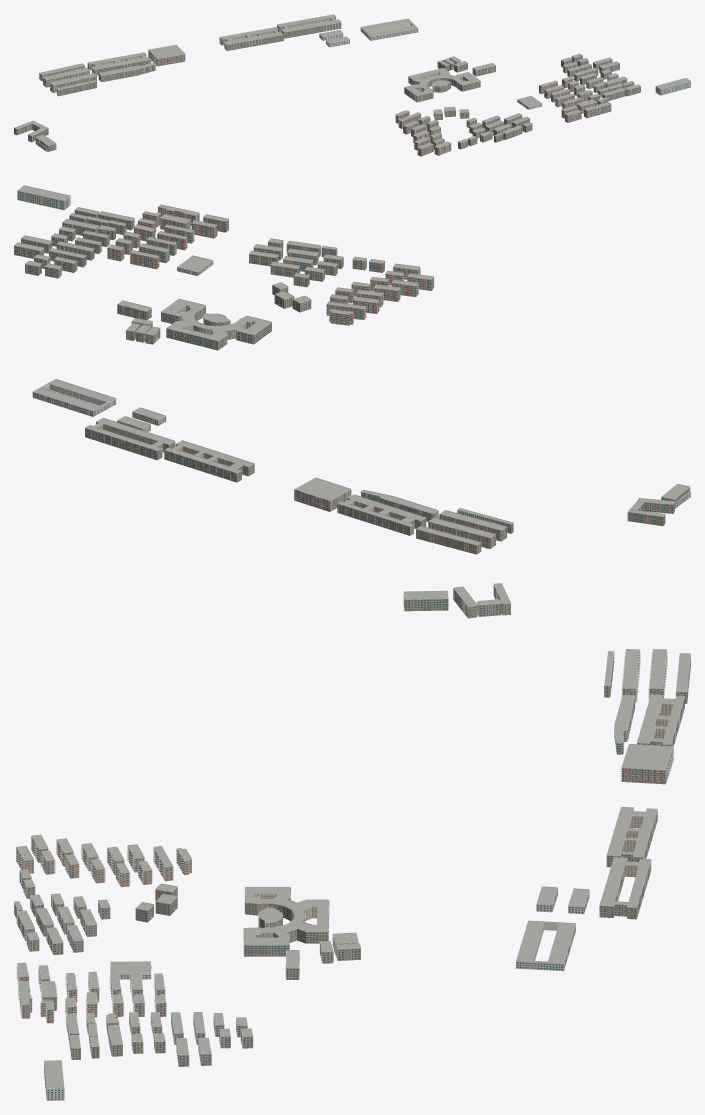
Rendered from north.glb.
The picture shows the model from 3 angles, top to bottom: view 1: azimuth 30°, elevation 25°; view 2: azimuth 150°, elevation 25°; view 3: azimuth 270°, elevation 25°; orthographic projection. The views are drawn at different scales.
Visible parts, largest first — view 1: north; view 2: north; view 3: north.
Part boxes in pixels (<box>): north: <box>14,14,690,156</box>; north: <box>14,185,690,554</box>; north: <box>14,583,690,1100</box>.
Bounding box in the file's own units: 1602 × 30.92 × 906.
6 materials, 2 textured.
